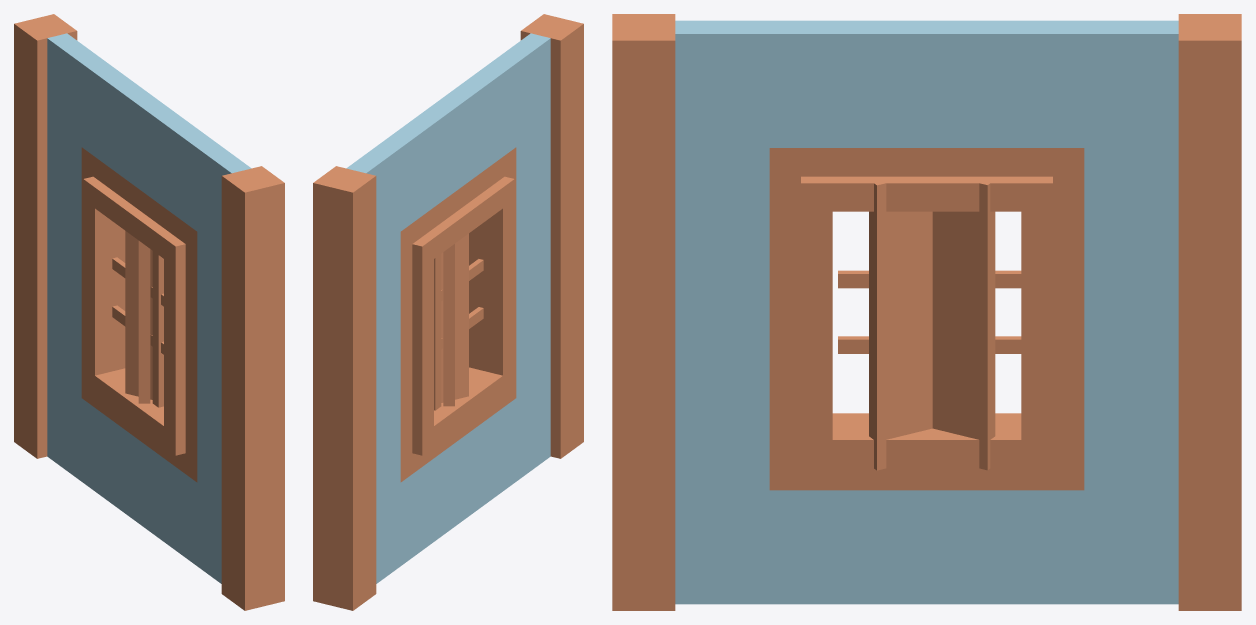
Rendered from wallWindowShutters.glb.
3 renders of one model, left to right at view 1: azimuth 30°, elevation 25°; view 2: azimuth 150°, elevation 25°; view 3: azimuth 270°, elevation 25°, orthographic. The views are drawn at different scales.
Parts seen in each view (by area): view 1: wallWindowShutters, wallWindowShutters.003, wallWindowShutters.001, wallWindowShutters.002; view 2: wallWindowShutters, wallWindowShutters.002, wallWindowShutters.003, wallWindowShutters.001; view 3: wallWindowShutters, wallWindowShutters.003, wallWindowShutters.002, wallWindowShutters.001.
Boxes of the visible parts, box(x1,y1,x2,y2) form: wallWindowShutters: box(14, 14, 284, 610); wallWindowShutters.003: box(125, 203, 152, 399); wallWindowShutters.001: box(112, 251, 163, 407); wallWindowShutters.002: box(138, 214, 150, 403); wallWindowShutters: box(313, 14, 583, 610); wallWindowShutters.002: box(441, 205, 468, 402); wallWindowShutters.003: box(443, 213, 454, 406); wallWindowShutters.001: box(434, 254, 483, 410); wallWindowShutters: box(612, 14, 1241, 610); wallWindowShutters.003: box(869, 177, 932, 470); wallWindowShutters.002: box(932, 176, 995, 470); wallWindowShutters.001: box(838, 270, 1021, 353).
Size of the model in its own units: 0.3254 by 3 by 3.
